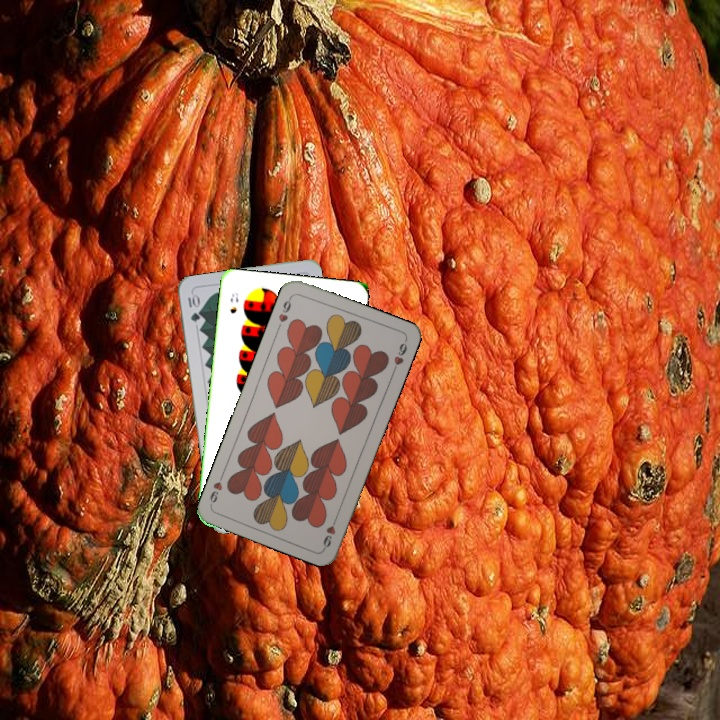G10: (184, 290, 202, 325)
H9: (274, 292, 295, 331), (319, 512, 340, 551)
S8: (226, 289, 241, 316)
